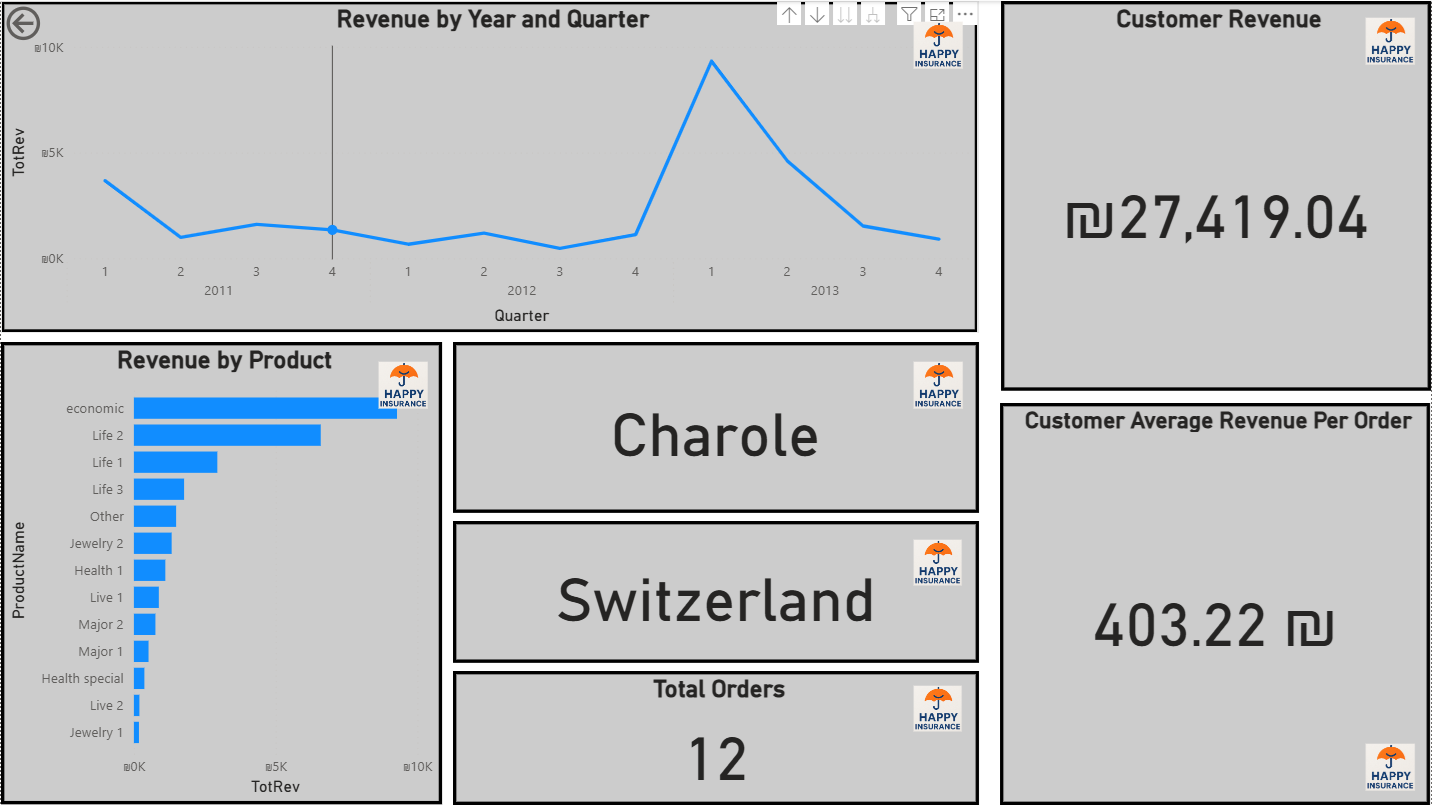

The page's visual inventory and layout, read from the dashboard file:
{"tool":"powerbi","page":{"name":"Customer DrillThrough","canvas":[1280,720],"ordinal":5},"visuals":[{"type":"barChart","title":"Revenue by Product","fields":{"Category":["Products.ProductName"],"Y":["MeasuresTable.TotRev"]},"box":[0,305.5,394.9,414.1],"z":0},{"type":"lineChart","title":"Revenue by Year and Quarter","fields":{"Category":["Date.Year","Date.Quarter"],"Y":["MeasuresTable.TotRev"]},"box":[0,0,875,297.4],"z":1000},{"type":"card","title":"Customer Revenue","fields":{"Values":["MeasuresTable.TotRev"]},"box":[895.3,0,384.7,349.2],"z":2000},{"type":"card","title":"Total Orders","fields":{"Values":["MeasuresTable.OrderQty"]},"box":[404.6,600.1,470.8,119.6],"z":3000},{"type":"card","title":"Customer Average Revenue Per Order","fields":{"Values":["MeasuresTable.Average of Revenue"]},"box":[894.8,359.9,385.2,359.9],"z":4000},{"type":"actionButton","box":[0,0,100,40],"z":5000},{"type":"card","fields":{"Values":["Min(Customers.CustomerName)"]},"box":[404.6,305.4,470.8,152.7],"z":6000},{"type":"image","box":[812.1,12.2,53.8,53.8],"z":7000},{"type":"image","box":[332.9,316.7,53.8,53.8],"z":8000},{"type":"image","box":[812.1,316.7,53.8,53.8],"z":9000},{"type":"image","box":[812.2,606.9,53.5,53.5],"z":10000},{"type":"image","box":[1216.8,659.5,54.5,53.5],"z":11000},{"type":"image","box":[1216.8,8.8,54.5,54.5],"z":12000},{"type":"card","fields":{"Values":["Min(Customers.Country)"]},"box":[404.6,465.9,470.8,127.4],"z":12001},{"type":"image","box":[812.2,476.6,53.5,53.5],"z":12002}]}

Visuals, with their boxes in screenshot pixels (x1, y1, x2, y2), scaled from the page's 1280x720 canvas onto the 1432x805 screenshot:
"Revenue by Product" barChart: pyautogui.locateOnScreen(0, 342, 442, 804)
"Revenue by Year and Quarter" lineChart: pyautogui.locateOnScreen(0, 0, 979, 333)
"Customer Revenue" card: pyautogui.locateOnScreen(1002, 0, 1431, 390)
"Total Orders" card: pyautogui.locateOnScreen(453, 671, 979, 804)
"Customer Average Revenue Per Order" card: pyautogui.locateOnScreen(1001, 402, 1431, 804)
actionButton: pyautogui.locateOnScreen(0, 0, 112, 45)
card - Min(Customers.CustomerName): pyautogui.locateOnScreen(453, 341, 979, 512)
image: pyautogui.locateOnScreen(909, 14, 969, 74)
image: pyautogui.locateOnScreen(372, 354, 433, 414)
image: pyautogui.locateOnScreen(909, 354, 969, 414)
image: pyautogui.locateOnScreen(909, 679, 969, 738)
image: pyautogui.locateOnScreen(1361, 737, 1422, 797)
image: pyautogui.locateOnScreen(1361, 10, 1422, 71)
card - Min(Customers.Country): pyautogui.locateOnScreen(453, 521, 979, 663)
image: pyautogui.locateOnScreen(909, 533, 969, 593)
